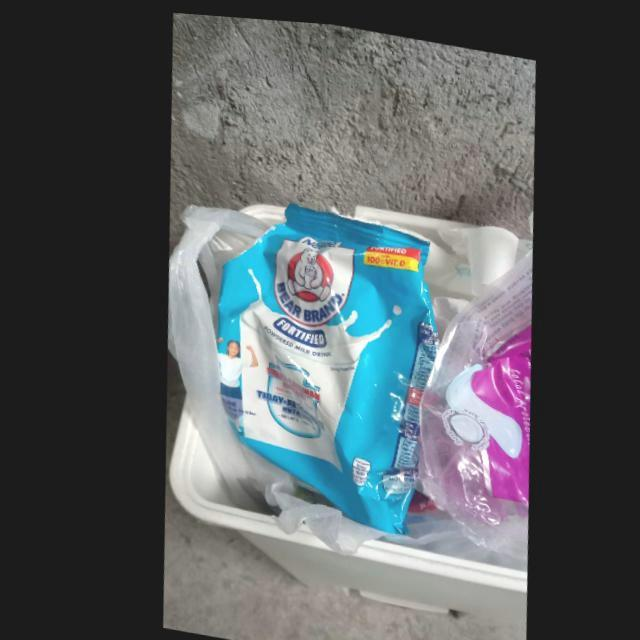food_wrapper: (209, 199, 430, 531)
paper: (430, 219, 513, 289)
plastic_bag: (404, 239, 528, 553)
